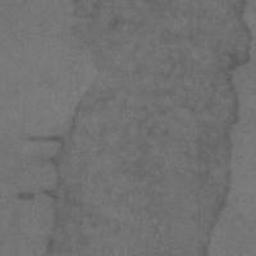Water spot: (26, 0, 252, 256), (15, 191, 36, 201)
